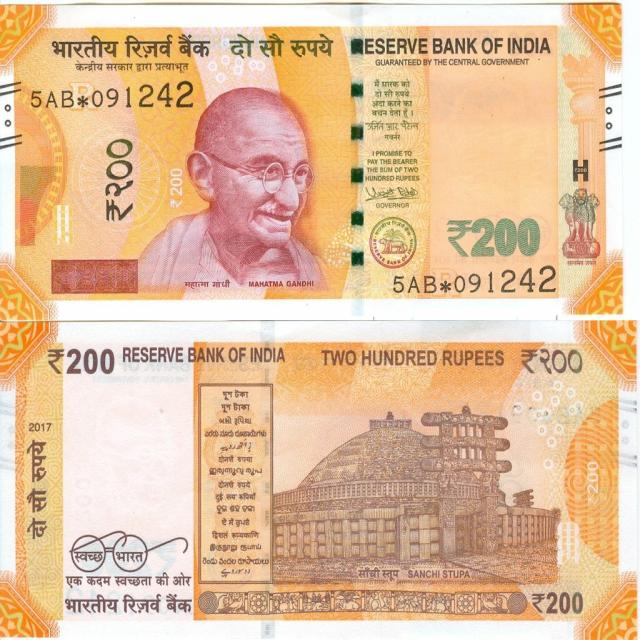200IndianRupees: (1, 0, 640, 324), (0, 320, 640, 640), (193, 322, 640, 640), (0, 323, 316, 640)
